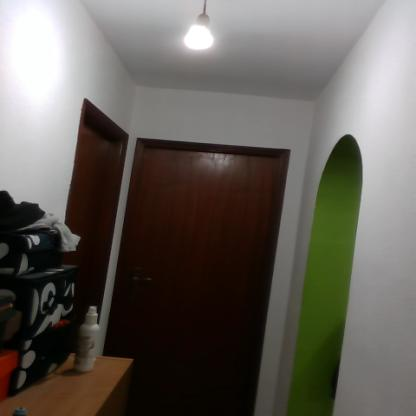closed: (108, 131, 296, 411), (78, 90, 124, 362)
